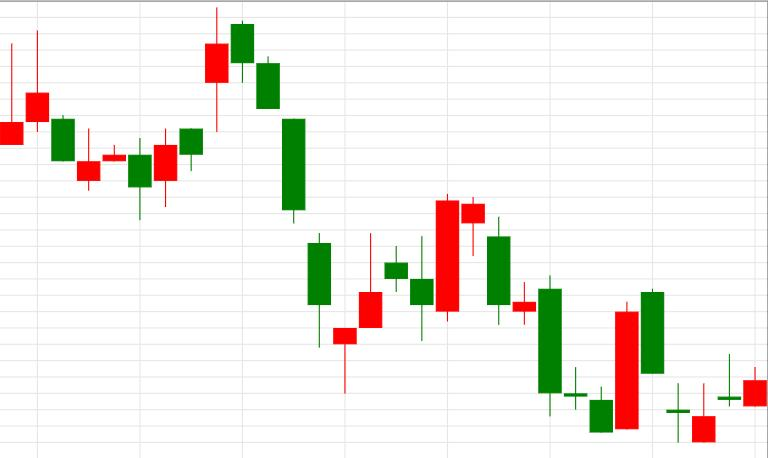three_black_crows_fall: (129, 7, 305, 224)
